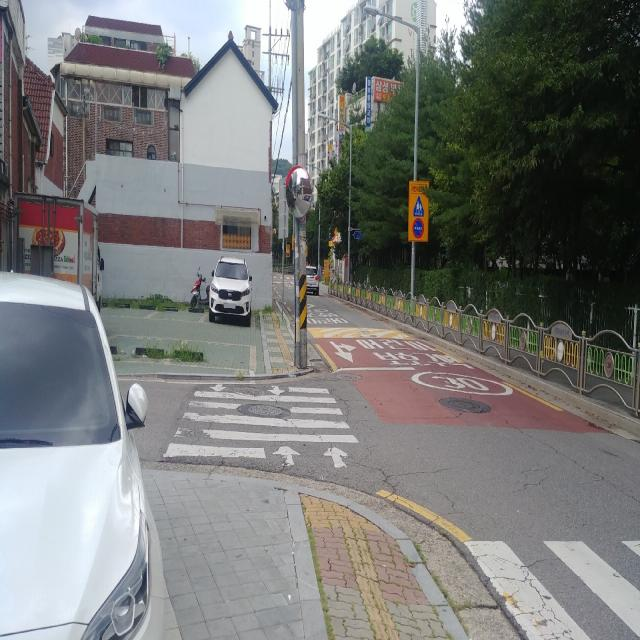횡단보도: (452, 524, 640, 640), (162, 382, 361, 471)
